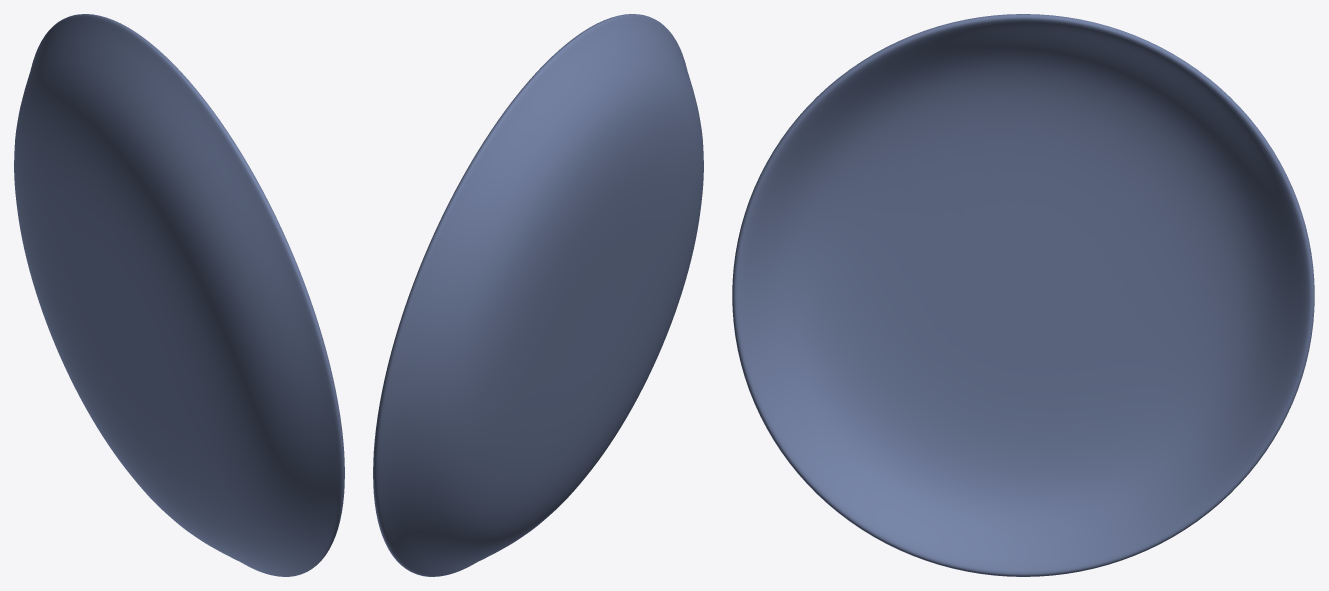
File: single-products-dis-30.glb
3 renders of one model, left to right at view 1: azimuth 30°, elevation 25°; view 2: azimuth 150°, elevation 25°; view 3: azimuth 270°, elevation 25°, orthographic. The views are drawn at different scales.
Parts seen in each view (by area): view 1: Circle.006; view 2: Circle.006; view 3: Circle.006.
Part boxes in pixels (x1=…): Circle.006: x1=14, y1=14, x2=344, y2=576; Circle.006: x1=373, y1=14, x2=703, y2=576; Circle.006: x1=732, y1=14, x2=1314, y2=576.
Size of the model in its own units: 0.077 by 0.2955 by 0.2999.
